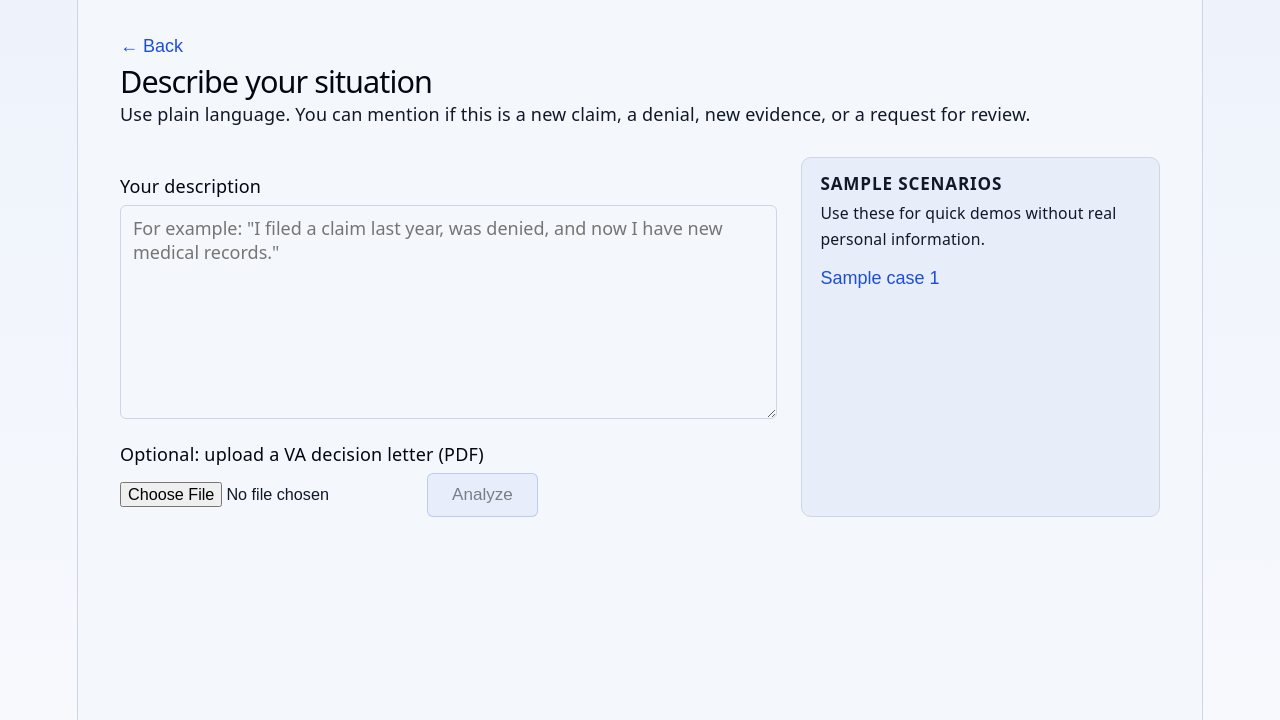
Scenario: IntakePage › Analyze button becomes enabled when text is typed
In the text box labelled "Your description": (449, 312) left=120, top=205, right=777, bottom=419, type "test text"
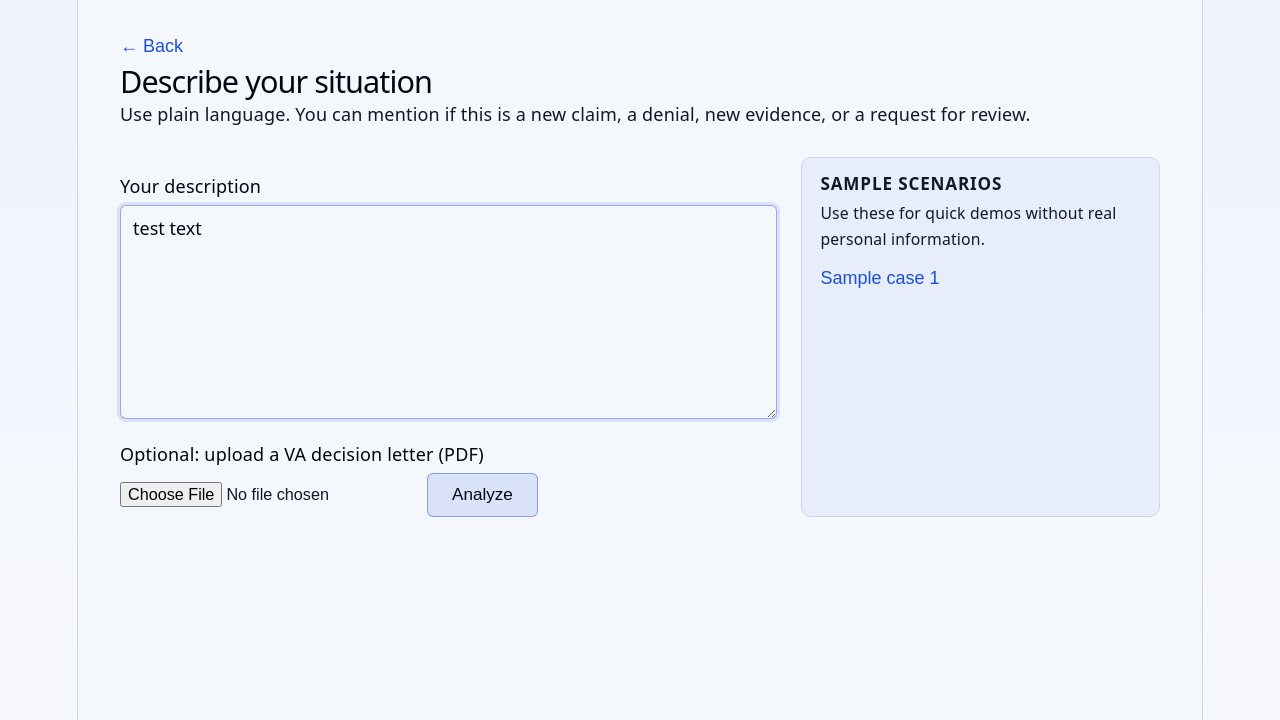
Check: the button "Analyze" is enabled, box left=427, top=473, right=538, bottom=517
